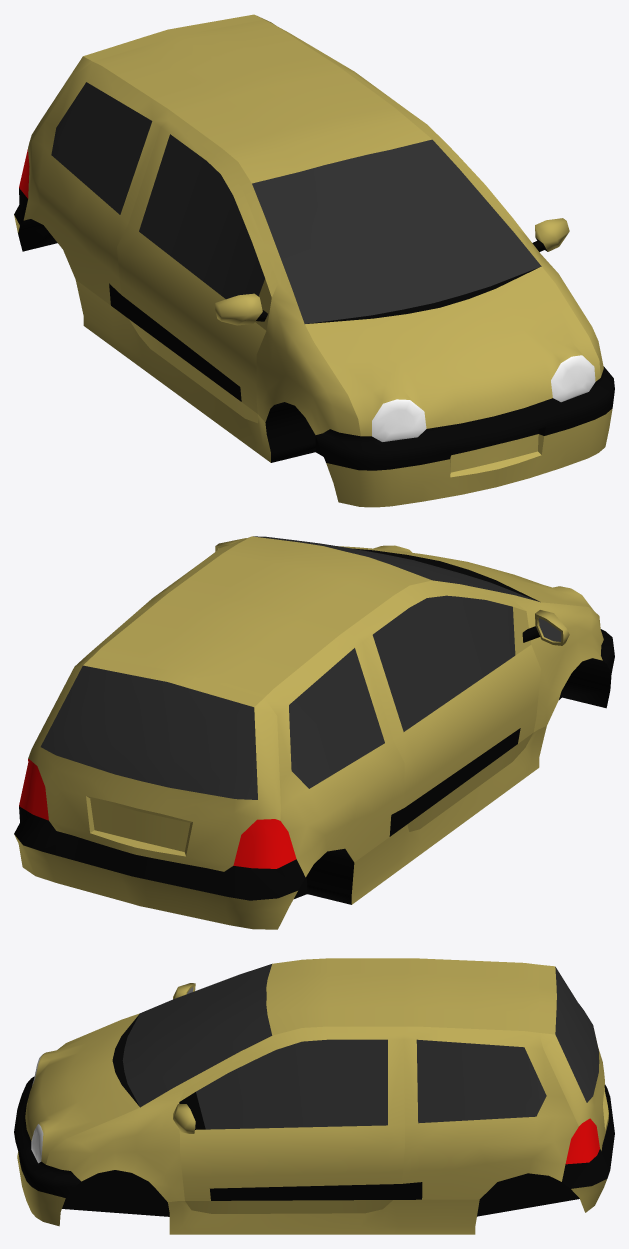
File: ris.glb
3 views of the same model, one above another, from view 1: azimuth 30°, elevation 25°; view 2: azimuth 150°, elevation 25°; view 3: azimuth 270°, elevation 25° (orthographic). The views are drawn at different scales.
Parts seen in each view (by area): view 1: rismobile; view 2: rismobile; view 3: rismobile.
Part boxes in pixels (x1=…): rismobile: x1=14, y1=14, x2=614, y2=507; rismobile: x1=14, y1=536, x2=614, y2=929; rismobile: x1=14, y1=958, x2=614, y2=1234.
Bounding box in the file's own units: 1.9 × 1.23 × 3.48.
3 materials, 1 textured.
